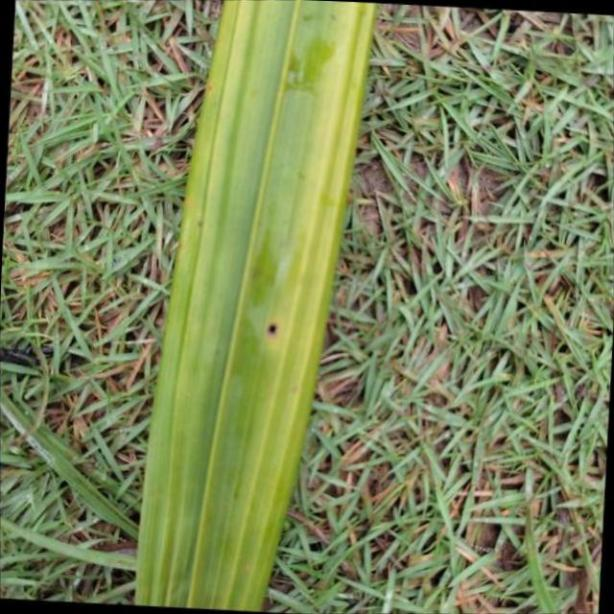nitrogen: (133, 0, 374, 614)
